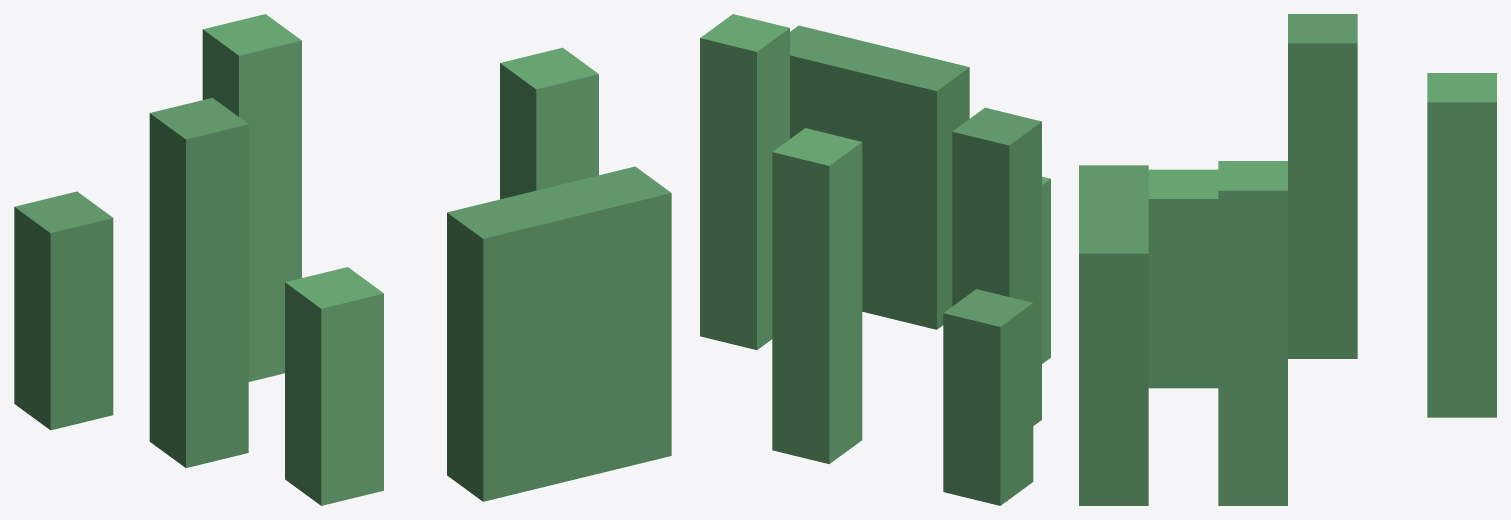
Rendered from mata_de_hojas_anchas_04.glb.
3 views of the same model, side by side, from view 1: azimuth 30°, elevation 25°; view 2: azimuth 150°, elevation 25°; view 3: azimuth 270°, elevation 25° (orthographic). The views are drawn at different scales.
Visible parts, largest first — view 1: mata_de_hojas_anchas_04; view 2: mata_de_hojas_anchas_04; view 3: mata_de_hojas_anchas_04.
Boxes of the visible parts, x1,y1,x2,y2 form: mata_de_hojas_anchas_04: (14, 14, 671, 505); mata_de_hojas_anchas_04: (700, 14, 1050, 505); mata_de_hojas_anchas_04: (1079, 14, 1496, 505).
Size of the model in its own units: 0.7 by 0.5 by 0.6.
